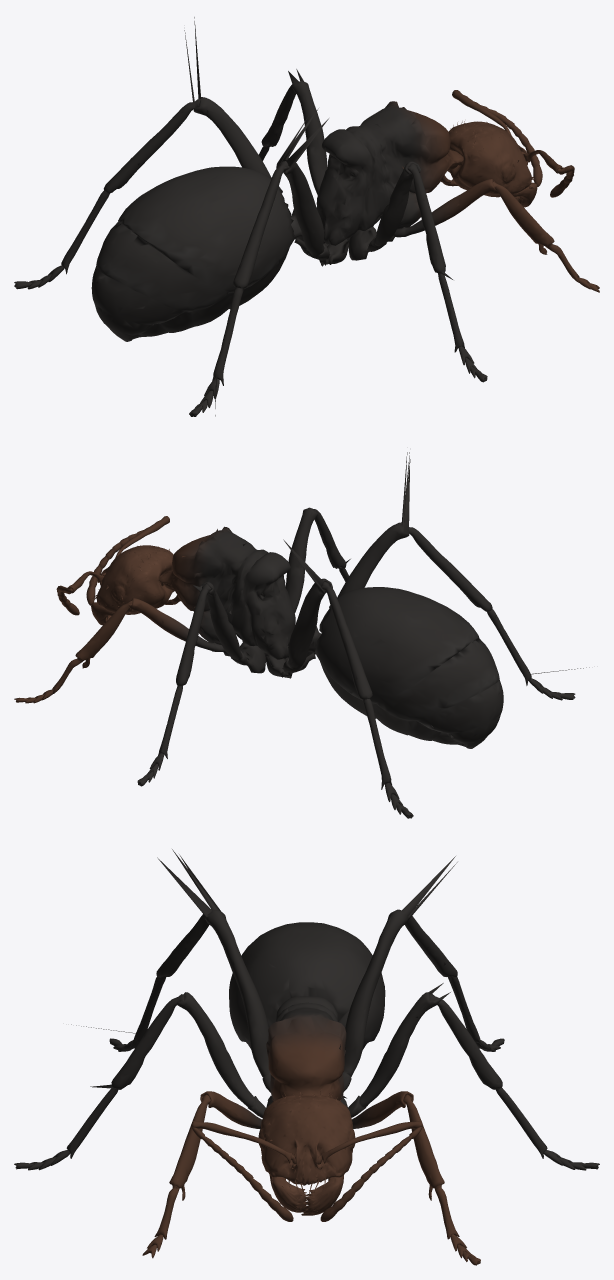
File: messor_q.glb
3 renders of one model, top to bottom at view 1: azimuth 30°, elevation 25°; view 2: azimuth 150°, elevation 25°; view 3: azimuth 270°, elevation 25°, orthographic. The views are drawn at different scales.
Parts seen in each view (by area): view 1: messor_q; view 2: messor_q; view 3: messor_q.
Part boxes in pixels (x1,y1,x2,y2): messor_q: [14, 17, 599, 416]; messor_q: [14, 452, 589, 818]; messor_q: [14, 849, 599, 1265].
Bounding box in the file's own units: 1.04 × 0.5542 × 1.05.
